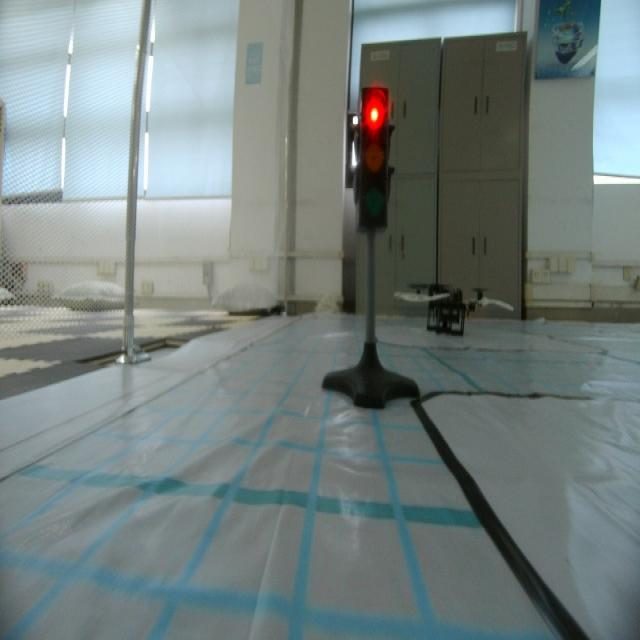red: (357, 83, 393, 236)
